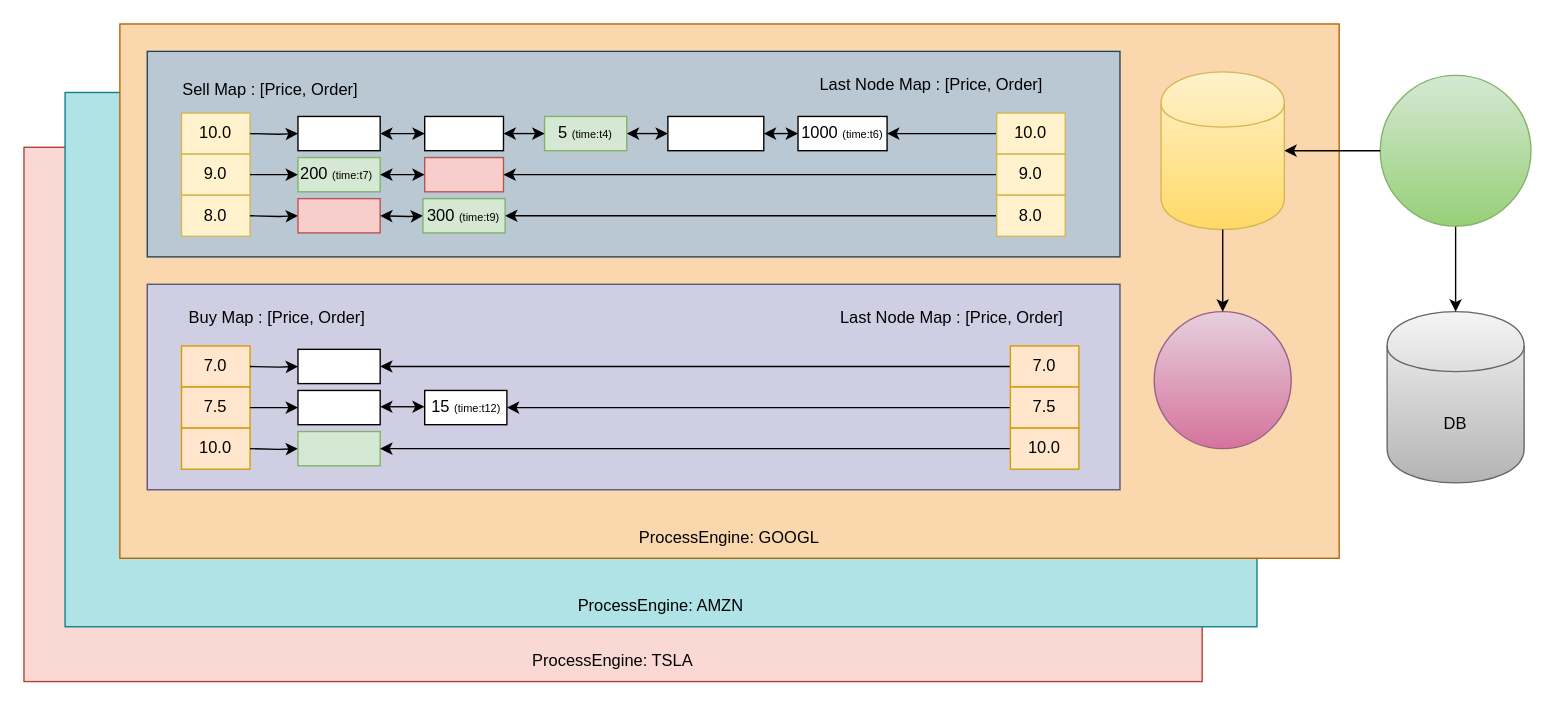
This 1555x706 diagram has some shape labels left out. Each missing label, with the centre of its shape:
1 (time:t2): (x=338, y=133)
1 (time:t3): (x=463, y=133)
100 (time:t10): (x=338, y=366)
100 (time:t5): (x=715, y=133)
5 (time:t1): (x=338, y=215)
5 (time:t11): (x=338, y=407)
500 (time:t8): (x=463, y=174)
505 (time:t13): (x=338, y=448)
Place Order: (x=1455, y=150)
Process: (x=1222, y=379)
Queue: (x=1222, y=150)
